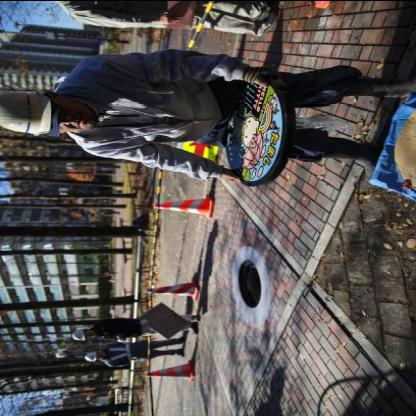manholes: (207, 244, 282, 326)
